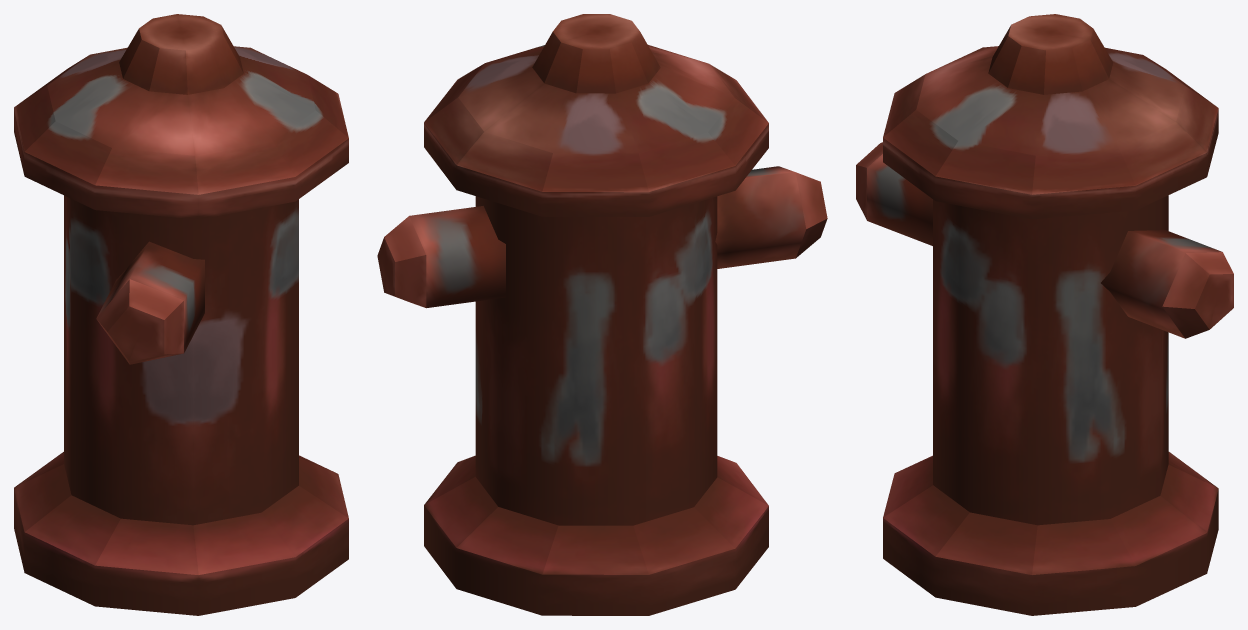
The picture shows the model from 3 angles, left to right: view 1: azimuth 30°, elevation 25°; view 2: azimuth 150°, elevation 25°; view 3: azimuth 270°, elevation 25°; orthographic projection.
Visible parts, largest first — view 1: wj_objects_02_1; view 2: wj_objects_02_1; view 3: wj_objects_02_1.
Part boxes in pixels (bbox=[...]): wj_objects_02_1: bbox=[14, 14, 348, 615]; wj_objects_02_1: bbox=[377, 14, 827, 615]; wj_objects_02_1: bbox=[856, 14, 1233, 615].
Bounding box in the file's own units: 128 × 140 × 209.
